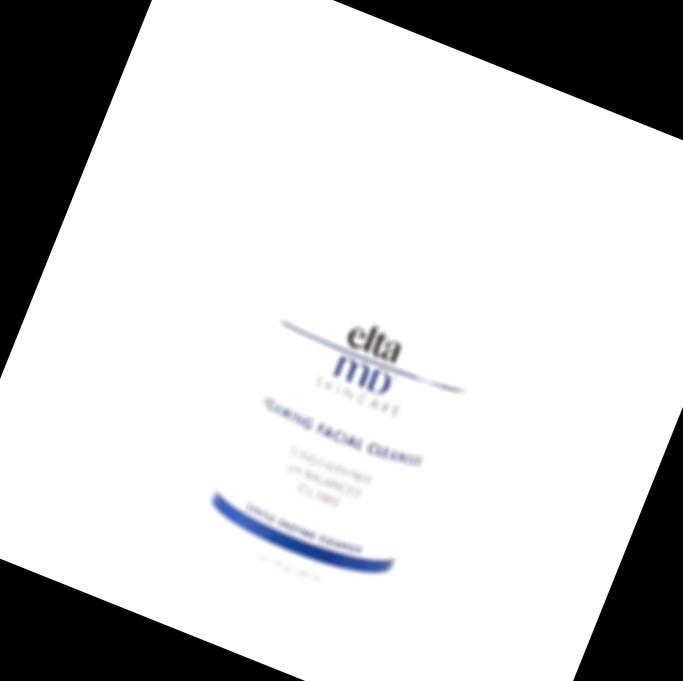cosmetic: (185, 79, 563, 647)
